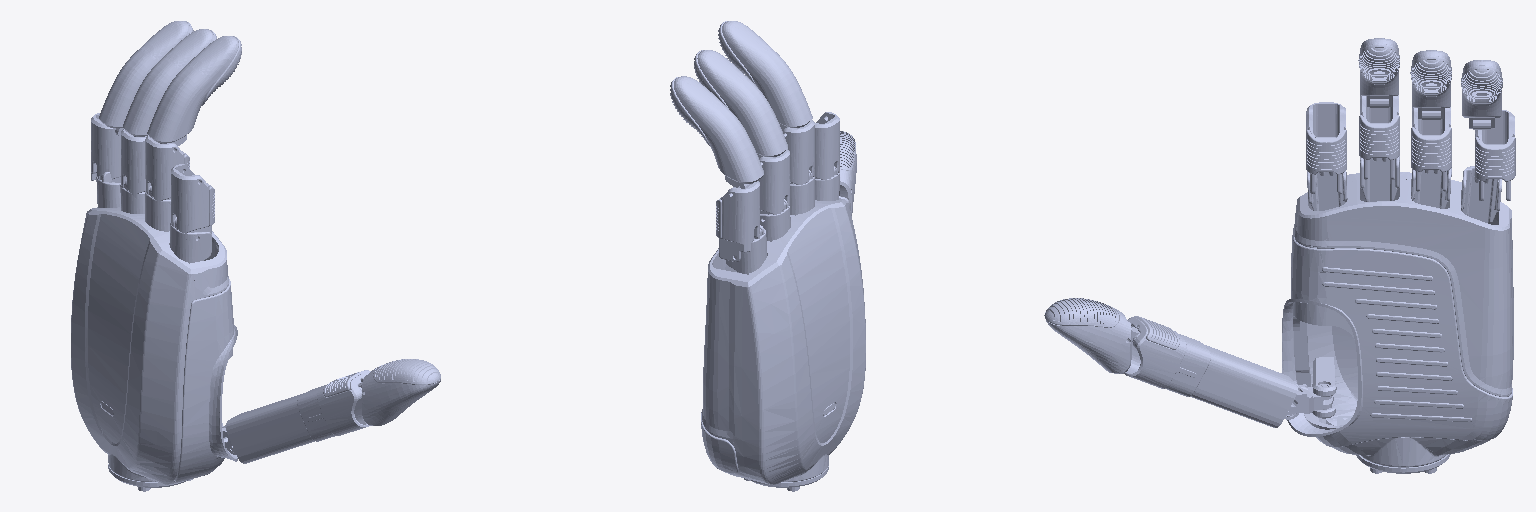
URDF robot description (linkerhand_l6v3.1_left):
<?xml version="1.0" encoding="utf-8"?>
<robot
  name="linkerhand_l6v3.1_left">
  <!-- 手掌基座，作为整只手的根链接 -->
  <link
    name="lh_hand_base_link">
    <inertial>
      <origin
        xyz="0.00199 -0.00091 0.058381"
        rpy="0 0 0" />
      <mass
        value="0.4185" />
      <inertia
        ixx="0.0004998"
        ixy="0.000012853"
        ixz="-0.000008317"
        iyy="0.0003567"
        iyz="0.000010354"
        izz="0.0002301" />
    </inertial>
    <visual>
      <origin
        xyz="0 0 0"
        rpy="0 0 0" />
      <geometry>
        <mesh
          filename="meshes/hand_base_link.STL" />
      </geometry>
      <material
        name="">
        <color
          rgba="0.796078431372549 0.823529411764706 0.937254901960784 1" />
      </material>
    </visual>
    <collision>
      <origin
        xyz="0 0 0"
        rpy="0 0 0" />
      <geometry>
        <mesh
          filename="meshes/hand_base_link.STL" />
      </geometry>
    </collision>
  </link>
  <link
    name="lh_thumb_metacarpals_base1">
    <inertial>
      <origin
        xyz="0.0018663 -0.0066406 0.001533"
        rpy="0 0 0" />
      <mass
        value="0.01" />
      <inertia
        ixx="3.3724E-07"
        ixy="1.11E-07"
        ixz="-3.6039E-08"
        iyy="2.9457E-07"
        iyz="5.7181E-08"
        izz="4.903E-07" />
    </inertial>
    <visual>
      <origin
        xyz="0 0 0"
        rpy="0 0 0" />
      <geometry>
        <mesh
          filename="meshes/thumb_metacarpals_base1.STL" />
      </geometry>
      <material
        name="">
        <color
          rgba="0.796078431372549 0.823529411764706 0.937254901960784 1" />
      </material>
    </visual>
    <collision>
      <origin
        xyz="0 0 0"
        rpy="0 0 0" />
      <geometry>
        <mesh
          filename="meshes/thumb_metacarpals_base1.STL" />
      </geometry>
    </collision>
  </link>
  <joint
    name="lh_thumb_cmc_roll"
    type="revolute">
    <origin
      xyz="0.0078133 -0.029898 0.026692"
      rpy="-0.034907 0 0" />
    <parent
      link="lh_hand_base_link" />
    <child
      link="lh_thumb_metacarpals_base1" />
    <axis
      xyz="0 0 1" />
    <limit
      lower="-0.087266"
      upper="1.256637"
      effort="0.588"
      velocity="5.95" />
    <dynamics damping="0.02" friction="0.05416667"/>
  </joint>
  <link
    name="lh_thumb_metacarpals">
    <inertial>
      <origin
        xyz="0.00769270907060086 0.0859662184722988 0.0235283086675235"
        rpy="0 0 0" />
      <mass
        value="0.065" />
      <inertia
        ixx="8.407E-06"
        ixy="-1.1338E-09"
        ixz="1.1136E-08"
        iyy="8.3899E-06"
        iyz="3.1171E-07"
        izz="2.0091E-06" />
    </inertial>
    <visual>
      <origin
        xyz="0 0 0"
        rpy="0 0 0" />
      <geometry>
        <mesh
          filename="meshes/thumb_metacarpals.STL" />
      </geometry>
      <material
        name="">
        <color
          rgba="0.796078431372549 0.823529411764706 0.937254901960784 1" />
      </material>
    </visual>
    <collision>
      <origin
        xyz="0 0 0"
        rpy="0 0 0" />
      <geometry>
        <mesh
          filename="meshes/thumb_metacarpals.STL" />
      </geometry>
    </collision>
  </link>
  <joint
    name="lh_thumb_cmc_pitch"
    type="revolute">
    <origin
      xyz="0.0057298 -0.01332 0.0027456"
      rpy="1.1083 0 0.40143" />
    <parent
      link="lh_thumb_metacarpals_base1" />
    <child
      link="lh_thumb_metacarpals" />
    <axis
      xyz="-1 0 0" />
    <limit
      lower="0"
      upper="0.837758"
      effort="1.008"
      velocity="3.47" />
    <dynamics damping="0.02" friction="0.0375"/>
  </joint>
  <link
    name="lh_thumb_distal">
    <inertial>
      <origin
        xyz="0.00769270907081708 0.0798662184721594 -0.0591716913325555"
        rpy="0 0 0" />
      <mass
        value="0.018" />
      <inertia
        ixx="1.5546E-06"
        ixy="2.4423E-09"
        ixz="2.8147E-09"
        iyy="1.7108E-06"
        iyz="-7.2756E-08"
        izz="9.1709E-07" />
    </inertial>
    <visual>
      <origin
        xyz="0 0 0"
        rpy="0 0 0" />
      <geometry>
        <mesh
          filename="meshes/thumb_distal.STL" />
      </geometry>
      <material
        name="">
        <color
          rgba="0.796078431372549 0.823529411764706 0.937254901960784 1" />
      </material>
    </visual>
    <collision>
      <origin
        xyz="0 0 0"
        rpy="0 0 0" />
      <geometry>
        <mesh
          filename="meshes/thumb_distal.STL" />
      </geometry>
    </collision>
  </link>
  <link
    name="lh_thumb_tip">
    <inertial>
      <origin
        xyz="0 0 0"
        rpy="0 0 0" />
      <mass
        value="1e-06" />
      <inertia
        ixx="1e-09"
        ixy="0"
        ixz="0"
        iyy="1e-09"
        iyz="0"
        izz="1e-09" />
    </inertial>
  </link>
  <joint
    name="lh_thumb_tip_fixed"
    type="fixed">
    <origin
      xyz="0 0.0035 0.026"
      rpy="0 0 1.5708" />
    <parent
      link="lh_thumb_distal" />
    <child
      link="lh_thumb_tip" />
  </joint>
  <joint
    name="lh_thumb_dip"
    type="revolute">
    <origin
      xyz="0 0.0061 0.0827"
      rpy="0 0 0" />
    <parent
      link="lh_thumb_metacarpals" />
    <child
      link="lh_thumb_distal" />
    <axis
      xyz="-1 0 0" />
    <limit
      lower="0"
      upper="0.963287"
      effort="0"
      velocity="1.7" />
    <mimic
      joint="lh_thumb_cmc_pitch"
      multiplier="1.226495"
      offset="0" />
  </joint>
  <link
    name="lh_index_proximal">
    <inertial>
      <origin
        xyz="0.001776 -0.00011 0.012556"
        rpy="0 0 0" />
      <mass
        value="0.008553" />
      <inertia
        ixx="0.000000797543"
        ixy="-0.000000001275"
        ixz="0.000000138601"
        iyy="0.000000800499"
        iyz="0.000000000939"
        izz="0.000000357001" />
    </inertial>
    <visual>
      <origin
        xyz="0 0 0"
        rpy="0 0 0" />
      <geometry>
        <mesh
          filename="meshes/index_proximal.STL" />
      </geometry>
      <material
        name="">
        <color
          rgba="0.796078431372549 0.823529411764706 0.937254901960784 1" />
      </material>
    </visual>
    <collision>
      <origin
        xyz="0 0 0"
        rpy="0 0 0" />
      <geometry>
        <mesh
          filename="meshes/index_proximal.STL" />
      </geometry>
    </collision>
  </link>
  <joint
    name="lh_index_mcp_pitch"
    type="revolute">
    <origin
      xyz="-0.00066821 -0.028967 0.11722"
      rpy="0 0 0" />
    <parent
      link="lh_hand_base_link" />
    <child
      link="lh_index_proximal" />
    <axis
      xyz="0 1 0" />
    <limit
      lower="0"
      upper="1.134464"
      effort="0.574"
      velocity="6.10" />
    <dynamics damping="0.01" friction="0.04"/>
  </joint>
  <link
    name="lh_index_distal">
    <inertial>
      <origin
        xyz="0.0134 0.002262 0.016992"
        rpy="0 0 0" />
      <mass
        value="0.018408" />
      <inertia
        ixx="0.000002488712"
        ixy="0.000000008249"
        ixz="-0.000001523059"
        iyy="0.000003723754"
        iyz="0.000000014019"
        izz="0.000001813582" />
    </inertial>
    <visual>
      <origin
        xyz="0 0 0"
        rpy="0 0 0" />
      <geometry>
        <mesh
          filename="meshes/index_distal.STL" />
      </geometry>
      <material
        name="">
        <color
          rgba="0.796078431372549 0.823529411764706 0.937254901960784 1" />
      </material>
    </visual>
    <collision>
      <origin
        xyz="0 0 0"
        rpy="0 0 0" />
      <geometry>
        <mesh
          filename="meshes/index_distal.STL" />
      </geometry>
    </collision>
  </link>
  <link
    name="lh_index_tip">
    <inertial>
      <origin
        xyz="0 0 0"
        rpy="0 0 0" />
      <mass
        value="1e-06" />
      <inertia
        ixx="1e-09"
        ixy="0"
        ixz="0"
        iyy="1e-09"
        iyz="0"
        izz="1e-09" />
    </inertial>
  </link>
  <joint
    name="lh_index_tip_fixed"
    type="fixed">
    <origin
      xyz="0.0341 0 0.034"
      rpy="0 0 0" />
    <parent
      link="lh_index_distal" />
    <child
      link="lh_index_tip" />
  </joint>
  <joint
    name="lh_index_dip"
    type="revolute">
    <origin
      xyz="0.00093749 0 0.028002"
      rpy="0 0 0" />
    <parent
      link="lh_index_proximal" />
    <child
      link="lh_index_distal" />
    <axis
      xyz="0 1 0" />
    <limit
      lower="0"
      upper="1.277039"
      effort="0"
      velocity="3.1" />
    <mimic
      joint="lh_index_mcp_pitch"
      multiplier="1.125676"
      offset="0" />
  </joint>
  <link
    name="lh_middle_proximal">
    <inertial>
      <origin
        xyz="0.001776 -0.00011 0.012556"
        rpy="0 0 0" />
      <mass
        value="0.008553" />
      <inertia
        ixx="0.000000797543"
        ixy="-0.000000001275"
        ixz="0.000000138601"
        iyy="0.000000800499"
        iyz="0.000000000939"
        izz="0.000000357001" />
    </inertial>
    <visual>
      <origin
        xyz="0 0 0"
        rpy="0 0 0" />
      <geometry>
        <mesh
          filename="meshes/middle_proximal.STL" />
      </geometry>
      <material
        name="">
        <color
          rgba="0.796078431372549 0.823529411764706 0.937254901960784 1" />
      </material>
    </visual>
    <collision>
      <origin
        xyz="0 0 0"
        rpy="0 0 0" />
      <geometry>
        <mesh
          filename="meshes/middle_proximal.STL" />
      </geometry>
    </collision>
  </link>
  <joint
    name="lh_middle_mcp_pitch"
    type="revolute">
    <origin
      xyz="-0.00066821 -0.0089013 0.12322"
      rpy="0 0 0" />
    <parent
      link="lh_hand_base_link" />
    <child
      link="lh_middle_proximal" />
    <axis
      xyz="0 1 0" />
    <limit
      lower="0"
      upper="1.134464"
      effort="0.574"
      velocity="6.10" />
    <dynamics damping="0.01" friction="0.02708333"/>
  </joint>
  <link
    name="lh_middle_distal">
    <inertial>
      <origin
        xyz="0.0134 0.002262 0.016992"
        rpy="0 0 0" />
      <mass
        value="0.018408" />
      <inertia
        ixx="0.000002488712"
        ixy="0.000000008249"
        ixz="-0.000001523059"
        iyy="0.000003723754"
        iyz="0.000000014019"
        izz="0.000001813582" />
    </inertial>
    <visual>
      <origin
        xyz="0 0 0"
        rpy="0 0 0" />
      <geometry>
        <mesh
          filename="meshes/middle_distal.STL" />
      </geometry>
      <material
        name="">
        <color
          rgba="0.796078431372549 0.823529411764706 0.937254901960784 1" />
      </material>
    </visual>
    <collision>
      <origin
        xyz="0 0 0"
        rpy="0 0 0" />
      <geometry>
        <mesh
          filename="meshes/middle_distal.STL" />
      </geometry>
    </collision>
  </link>
  <link
    name="lh_middle_tip">
    <inertial>
      <origin
        xyz="0 0 0"
        rpy="0 0 0" />
      <mass
        value="1e-06" />
      <inertia
        ixx="1e-09"
        ixy="0"
        ixz="0"
        iyy="1e-09"
        iyz="0"
        izz="1e-09" />
    </inertial>
  </link>
  <joint
    name="lh_middle_tip_fixed"
    type="fixed">
    <origin
      xyz="0.0341 0 0.034"
      rpy="0 0 0" />
    <parent
      link="lh_middle_distal" />
    <child
      link="lh_middle_tip" />
  </joint>
  <joint
    name="lh_middle_dip"
    type="revolute">
    <origin
      xyz="0.00093749 0 0.028002"
      rpy="0 0 0" />
    <parent
      link="lh_middle_proximal" />
    <child
      link="lh_middle_distal" />
    <axis
      xyz="0 1 0" />
    <limit
      lower="0"
      upper="1.277039"
      effort="0"
      velocity="3.1" />
    <mimic
      joint="lh_middle_mcp_pitch"
      multiplier="1.125676"
      offset="0" />
  </joint>
  <link
    name="lh_ring_proximal">
    <inertial>
      <origin
        xyz="0.001776 -0.00011 0.012556"
        rpy="0 0 0" />
      <mass
        value="0.008553" />
      <inertia
        ixx="0.000000797543"
        ixy="-0.000000001275"
        ixz="0.000000138601"
        iyy="0.000000800499"
        iyz="0.000000000939"
        izz="0.000000357001" />
    </inertial>
    <visual>
      <origin
        xyz="0 0 0"
        rpy="0 0 0" />
      <geometry>
        <mesh
          filename="meshes/ring_proximal.STL" />
      </geometry>
      <material
        name="">
        <color
          rgba="0.796078431372549 0.823529411764706 0.937254901960784 1" />
      </material>
    </visual>
    <collision>
      <origin
        xyz="0 0 0"
        rpy="0 0 0" />
      <geometry>
        <mesh
          filename="meshes/ring_proximal.STL" />
      </geometry>
    </collision>
  </link>
  <joint
    name="lh_ring_mcp_pitch"
    type="revolute">
    <origin
      xyz="-0.00067368 0.010717 0.11822"
      rpy="0 0 0" />
    <parent
      link="lh_hand_base_link" />
    <child
      link="lh_ring_proximal" />
    <axis
      xyz="0 1 0" />
    <limit
      lower="0"
      upper="1.134464"
      effort="0.574"
      velocity="6.10" />
    <dynamics damping="0.01" friction="0.02291667"/>
  </joint>
  <link
    name="lh_ring_distal">
    <inertial>
      <origin
        xyz="0.0134 0.002262 0.016992"
        rpy="0 0 0" />
      <mass
        value="0.018408" />
      <inertia
        ixx="0.000002488712"
        ixy="0.000000008249"
        ixz="-0.000001523059"
        iyy="0.000003723754"
        iyz="0.000000014019"
        izz="0.000001813582" />
    </inertial>
    <visual>
      <origin
        xyz="0 0 0"
        rpy="0 0 0" />
      <geometry>
        <mesh
          filename="meshes/ring_distal.STL" />
      </geometry>
      <material
        name="">
        <color
          rgba="0.796078431372549 0.823529411764706 0.937254901960784 1" />
      </material>
    </visual>
    <collision>
      <origin
        xyz="0 0 0"
        rpy="0 0 0" />
      <geometry>
        <mesh
          filename="meshes/ring_distal.STL" />
      </geometry>
    </collision>
  </link>
  <link
    name="lh_ring_tip">
    <inertial>
      <origin
        xyz="0 0 0"
        rpy="0 0 0" />
      <mass
        value="1e-06" />
      <inertia
        ixx="1e-09"
        ixy="0"
        ixz="0"
        iyy="1e-09"
        iyz="0"
        izz="1e-09" />
    </inertial>
  </link>
  <joint
    name="lh_ring_tip_fixed"
    type="fixed">
    <origin
      xyz="0.0341 0 0.034"
      rpy="0 0 0" />
    <parent
      link="lh_ring_distal" />
    <child
      link="lh_ring_tip" />
  </joint>
  <joint
    name="lh_ring_dip"
    type="revolute">
    <origin
      xyz="0.00093749 0 0.028002"
      rpy="0 0 0" />
    <parent
      link="lh_ring_proximal" />
    <child
      link="lh_ring_distal" />
    <axis
      xyz="0 1 0" />
    <limit
      lower="0"
      upper="1.277039"
      effort="0"
      velocity="3.1" />
    <mimic
      joint="lh_ring_mcp_pitch"
      multiplier="1.125676"
      offset="0" />
  </joint>
  <link
    name="lh_pinky_proximal">
    <inertial>
      <origin
        xyz="0.001776 -0.00011 0.012556"
        rpy="0 0 0" />
      <mass
        value="0.008553" />
      <inertia
        ixx="0.000000797543"
        ixy="-0.000000001275"
        ixz="0.000000138601"
        iyy="0.000000800499"
        iyz="0.000000000939"
        izz="0.000000357001" />
    </inertial>
    <visual>
      <origin
        xyz="0 0 0"
        rpy="0 0 0" />
      <geometry>
        <mesh
          filename="meshes/pinky_proximal.STL" />
      </geometry>
      <material
        name="">
        <color
          rgba="0.796078431372549 0.823529411764706 0.937254901960784 1" />
      </material>
    </visual>
    <collision>
      <origin
        xyz="0 0 0"
        rpy="0 0 0" />
      <geometry>
        <mesh
          filename="meshes/pinky_proximal.STL" />
      </geometry>
    </collision>
  </link>
  <joint
    name="lh_pinky_mcp_pitch"
    type="revolute">
    <origin
      xyz="-0.00067852 0.029814 0.11424"
      rpy="0 0 0" />
    <parent
      link="lh_hand_base_link" />
    <child
      link="lh_pinky_proximal" />
    <axis
      xyz="0 1 0" />
    <limit
      lower="0"
      upper="1.134464"
      effort="0.574"
      velocity="6.10" />
    <dynamics damping="0.01" friction="0.01"/>
  </joint>
  <link
    name="lh_pinky_distal">
    <inertial>
      <origin
        xyz="0.0134 0.002262 0.016992"
        rpy="0 0 0" />
      <mass
        value="0.018408" />
      <inertia
        ixx="0.000002488712"
        ixy="0.000000008249"
        ixz="-0.000001523059"
        iyy="0.000003723754"
        iyz="0.000000014019"
        izz="0.000001813582" />
    </inertial>
    <visual>
      <origin
        xyz="0 0 0"
        rpy="0 0 0" />
      <geometry>
        <mesh
          filename="meshes/pinky_distal.STL" />
      </geometry>
      <material
        name="">
        <color
          rgba="0.796078431372549 0.823529411764706 0.937254901960784 1" />
      </material>
    </visual>
    <collision>
      <origin
        xyz="0 0 0"
        rpy="0 0 0" />
      <geometry>
        <mesh
          filename="meshes/pinky_distal.STL" />
      </geometry>
    </collision>
  </link>
  <link
    name="lh_pinky_tip">
    <inertial>
      <origin
        xyz="0 0 0"
        rpy="0 0 0" />
      <mass
        value="1e-06" />
      <inertia
        ixx="1e-09"
        ixy="0"
        ixz="0"
        iyy="1e-09"
        iyz="0"
        izz="1e-09" />
    </inertial>
  </link>
  <joint
    name="lh_pinky_tip_fixed"
    type="fixed">
    <origin
      xyz="0.0341 0 0.034"
      rpy="0 0 0" />
    <parent
      link="lh_pinky_distal" />
    <child
      link="lh_pinky_tip" />
  </joint>
  <joint
    name="lh_pinky_dip"
    type="revolute">
    <origin
      xyz="0.00093749 0 0.028002"
      rpy="0 0 0" />
    <parent
      link="lh_pinky_proximal" />
    <child
      link="lh_pinky_distal" />
    <axis
      xyz="0 1 0" />
    <limit
      lower="0"
      upper="1.277039"
      effort="0"
      velocity="3.1" />
    <mimic
      joint="lh_pinky_mcp_pitch"
      multiplier="1.125676"
      offset="0" />
  </joint>
  <transmission name="trans_thumb_cmc_roll">
    <type>transmission_interface/SimpleTransmission</type>
    <joint name="lh_thumb_cmc_roll">
      <hardwareInterface>hardware_interface/EffortJointInterface</hardwareInterface>
    </joint>
    <actuator name="motor_thumb_cmc_roll">
      <hardwareInterface>hardware_interface/EffortJointInterface</hardwareInterface>
      <mechanicalReduction>0.0084</mechanicalReduction>
    </actuator>
  </transmission>
  <transmission name="trans_index_mcp_pitch">
    <type>transmission_interface/SimpleTransmission</type>
    <joint name="lh_index_mcp_pitch">
      <hardwareInterface>hardware_interface/EffortJointInterface</hardwareInterface>
    </joint>
    <actuator name="motor_index_mcp_pitch">
      <hardwareInterface>hardware_interface/EffortJointInterface</hardwareInterface>
      <mechanicalReduction>0.0082</mechanicalReduction>
    </actuator>
  </transmission>
  <transmission name="trans_middle_mcp_pitch">
    <type>transmission_interface/SimpleTransmission</type>
    <joint name="lh_middle_mcp_pitch">
      <hardwareInterface>hardware_interface/EffortJointInterface</hardwareInterface>
    </joint>
    <actuator name="motor_middle_mcp_pitch">
      <hardwareInterface>hardware_interface/EffortJointInterface</hardwareInterface>
      <mechanicalReduction>0.0082</mechanicalReduction>
    </actuator>
  </transmission>
  <transmission name="trans_ring_mcp_pitch">
    <type>transmission_interface/SimpleTransmission</type>
    <joint name="lh_ring_mcp_pitch">
      <hardwareInterface>hardware_interface/EffortJointInterface</hardwareInterface>
    </joint>
    <actuator name="motor_ring_mcp_pitch">
      <hardwareInterface>hardware_interface/EffortJointInterface</hardwareInterface>
      <mechanicalReduction>0.0082</mechanicalReduction>
    </actuator>
  </transmission>
  <transmission name="trans_pinky_mcp_pitch">
    <type>transmission_interface/SimpleTransmission</type>
    <joint name="lh_pinky_mcp_pitch">
      <hardwareInterface>hardware_interface/EffortJointInterface</hardwareInterface>
    </joint>
    <actuator name="motor_pinky_mcp_pitch">
      <hardwareInterface>hardware_interface/EffortJointInterface</hardwareInterface>
      <mechanicalReduction>0.0082</mechanicalReduction>
    </actuator>
  </transmission>
  <transmission name="trans_thumb_cmc_pitch">
    <type>transmission_interface/SimpleTransmission</type>
    <joint name="lh_thumb_cmc_pitch">
      <hardwareInterface>hardware_interface/EffortJointInterface</hardwareInterface>
    </joint>
    <actuator name="motor_thumb_cmc_pitch">
      <hardwareInterface>hardware_interface/EffortJointInterface</hardwareInterface>
      <mechanicalReduction>0.0144</mechanicalReduction>
    </actuator>
  </transmission>
  <mujoco>
    <compiler meshdir="meshes/" balanceinertia="true" discardvisual="false"/>
    <default>
      <joint armature="3.4707e-08" damping="5.0" frictionloss="0.5"/>
    </default>
    <equality>
      <!-- 四指DIP关节的mimic约束 - 统一使用1.125676 -->
      <!-- polycoef格式: c0 c1 c2 c3 c4 c5，关系: q1 = c0 + c1*q2 + c2*q2^2 + ... -->
      <!-- 对于 mimic: q_dip = 0 + 1.125676*q_mcp + 0*q_mcp^2 + ... -->
      <joint name="lh_couple_index" joint1="lh_index_dip" joint2="lh_index_mcp_pitch" polycoef="0 1.125676 0 0 0 0"/>
      <joint name="lh_couple_middle" joint1="lh_middle_dip" joint2="lh_middle_mcp_pitch" polycoef="0 1.125676 0 0 0 0"/>
      <joint name="lh_couple_ring" joint1="lh_ring_dip" joint2="lh_ring_mcp_pitch" polycoef="0 1.125676 0 0 0 0"/>
      <joint name="lh_couple_pinky" joint1="lh_pinky_dip" joint2="lh_pinky_mcp_pitch" polycoef="0 1.125676 0 0 0 0"/>
      <!-- 大拇指DIP关节的mimic约束 - 使用1.226495 -->
      <joint name="lh_couple_thumb" joint1="lh_thumb_dip" joint2="lh_thumb_cmc_pitch" polycoef="0 1.226495 0 0 0 0"/>
    </equality>
  </mujoco>
  <gazebo reference="lh_hand_base_link">
    <mu1>1.5</mu1>
    <mu2>1.5</mu2>
    <selfCollide>true</selfCollide>
  </gazebo>
  <gazebo reference="lh_thumb_distal">
    <mu1>1.5</mu1>
    <mu2>1.5</mu2>
    <selfCollide>true</selfCollide>
  </gazebo>
  <gazebo reference="lh_index_distal">
    <mu1>1.1</mu1>
    <mu2>1.1</mu2>
    <selfCollide>true</selfCollide>
  </gazebo>
  <gazebo reference="lh_middle_distal">
    <mu1>1.1</mu1>
    <mu2>1.1</mu2>
    <selfCollide>true</selfCollide>
  </gazebo>
  <gazebo reference="lh_ring_distal">
    <mu1>1.1</mu1>
    <mu2>1.1</mu2>
    <selfCollide>true</selfCollide>
  </gazebo>
  <gazebo reference="lh_pinky_distal">
    <mu1>1.1</mu1>
    <mu2>1.1</mu2>
    <selfCollide>true</selfCollide>
  </gazebo>
</robot>

--- Facts derived from the render (not from the file) ---
The picture shows the robot from 3 angles, left to right: view 1: azimuth 30°, elevation 25°; view 2: azimuth 150°, elevation 25°; view 3: azimuth 270°, elevation 25°; orthographic projection.
Robot: linkerhand_l6v3.1_left — 17 links, 16 joints (11 revolute, 5 fixed); root link lh_hand_base_link; default pose: every joint at zero.
Visible links, largest first — view 1: lh_hand_base_link, lh_thumb_metacarpals, lh_middle_distal, lh_thumb_distal, lh_pinky_distal, lh_ring_distal, lh_index_proximal, lh_middle_proximal, lh_pinky_proximal, lh_ring_proximal; view 2: lh_hand_base_link, lh_pinky_distal, lh_middle_distal, lh_ring_distal, lh_pinky_proximal, lh_ring_proximal, lh_index_proximal, lh_middle_proximal, lh_thumb_distal; view 3: lh_hand_base_link, lh_thumb_metacarpals, lh_thumb_distal, lh_index_proximal, lh_pinky_proximal, lh_pinky_distal, lh_ring_distal, lh_middle_distal, lh_ring_proximal, lh_middle_proximal, lh_thumb_metacarpals_base1.
Link boxes in pixels (x1=…): lh_hand_base_link: x1=71, y1=172, x2=237, y2=491; lh_thumb_metacarpals: x1=226, y1=370, x2=370, y2=463; lh_middle_distal: x1=147, y1=36, x2=241, y2=145; lh_thumb_distal: x1=362, y1=359, x2=440, y2=425; lh_pinky_distal: x1=99, y1=21, x2=193, y2=137; lh_ring_distal: x1=123, y1=29, x2=216, y2=136; lh_index_proximal: x1=171, y1=164, x2=214, y2=239; lh_middle_proximal: x1=145, y1=135, x2=189, y2=206; lh_pinky_proximal: x1=91, y1=113, x2=120, y2=182; lh_ring_proximal: x1=121, y1=129, x2=146, y2=198; lh_hand_base_link: x1=701, y1=166, x2=865, y2=491; lh_pinky_distal: x1=670, y1=76, x2=763, y2=188; lh_middle_distal: x1=718, y1=21, x2=812, y2=130; lh_ring_distal: x1=694, y1=50, x2=787, y2=158; lh_pinky_proximal: x1=716, y1=181, x2=759, y2=261; lh_ring_proximal: x1=758, y1=149, x2=789, y2=219; lh_index_proximal: x1=814, y1=112, x2=839, y2=179; lh_middle_proximal: x1=783, y1=120, x2=814, y2=184; lh_thumb_distal: x1=839, y1=131, x2=856, y2=215; lh_hand_base_link: x1=1282, y1=156, x2=1513, y2=473; lh_thumb_metacarpals: x1=1124, y1=316, x2=1298, y2=427; lh_thumb_distal: x1=1044, y1=298, x2=1131, y2=373; lh_index_proximal: x1=1306, y1=102, x2=1346, y2=193; lh_pinky_proximal: x1=1475, y1=110, x2=1515, y2=200; lh_pinky_distal: x1=1461, y1=60, x2=1502, y2=129; lh_ring_distal: x1=1410, y1=50, x2=1451, y2=119; lh_middle_distal: x1=1358, y1=38, x2=1399, y2=107; lh_ring_proximal: x1=1411, y1=107, x2=1451, y2=191; lh_middle_proximal: x1=1359, y1=95, x2=1399, y2=179; lh_thumb_metacarpals_base1: x1=1289, y1=381, x2=1333, y2=413.
Size in the robot's own frame: 0.08 by 0.1778 by 0.1892 metres.
11 mesh visuals loaded from 12 distinct referenced files (11 binary STL); not drawn: 1 (file found but could not be loaded).
